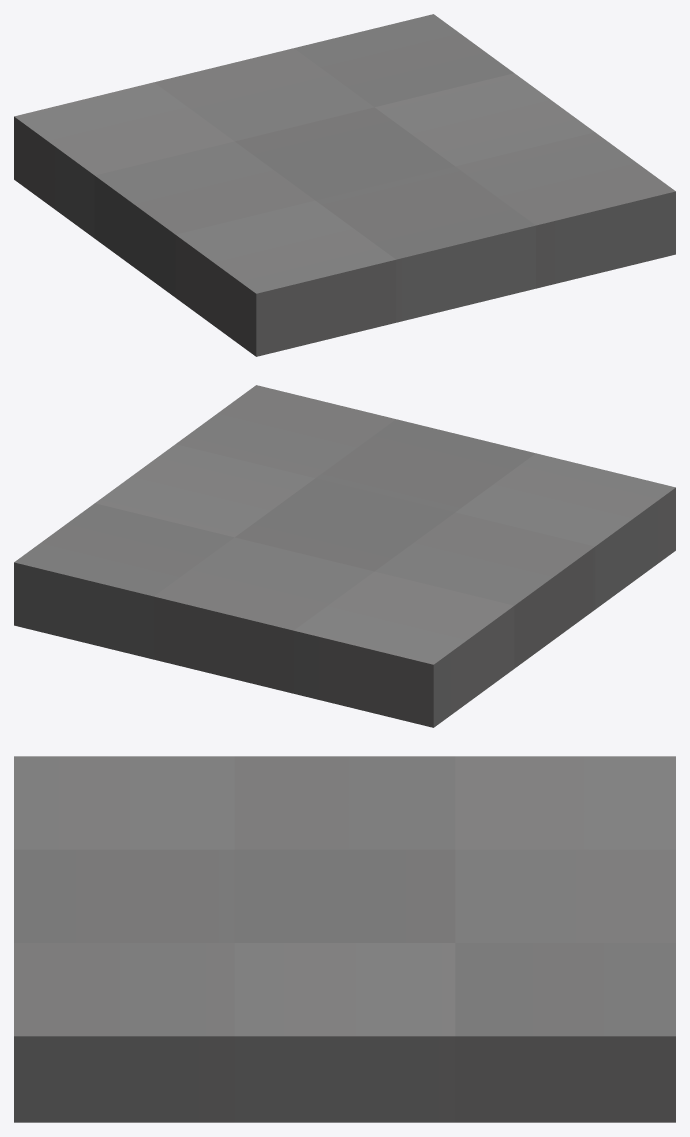
Rendered from B02_troitoir.fbx.
3 renders of one model, top to bottom at view 1: azimuth 30°, elevation 25°; view 2: azimuth 150°, elevation 25°; view 3: azimuth 270°, elevation 25°, orthographic. The views are drawn at different scales.
Parts seen in each view (by area): view 1: B02_troitoir; view 2: B02_troitoir; view 3: B02_troitoir.
Boxes of the visible parts, left/top/right/bottom form: B02_troitoir: left=14, top=14, right=675, bottom=356; B02_troitoir: left=14, top=385, right=675, bottom=727; B02_troitoir: left=14, top=756, right=675, bottom=1122.
Bounding box in the file's own units: 357 × 51.35 × 357.
